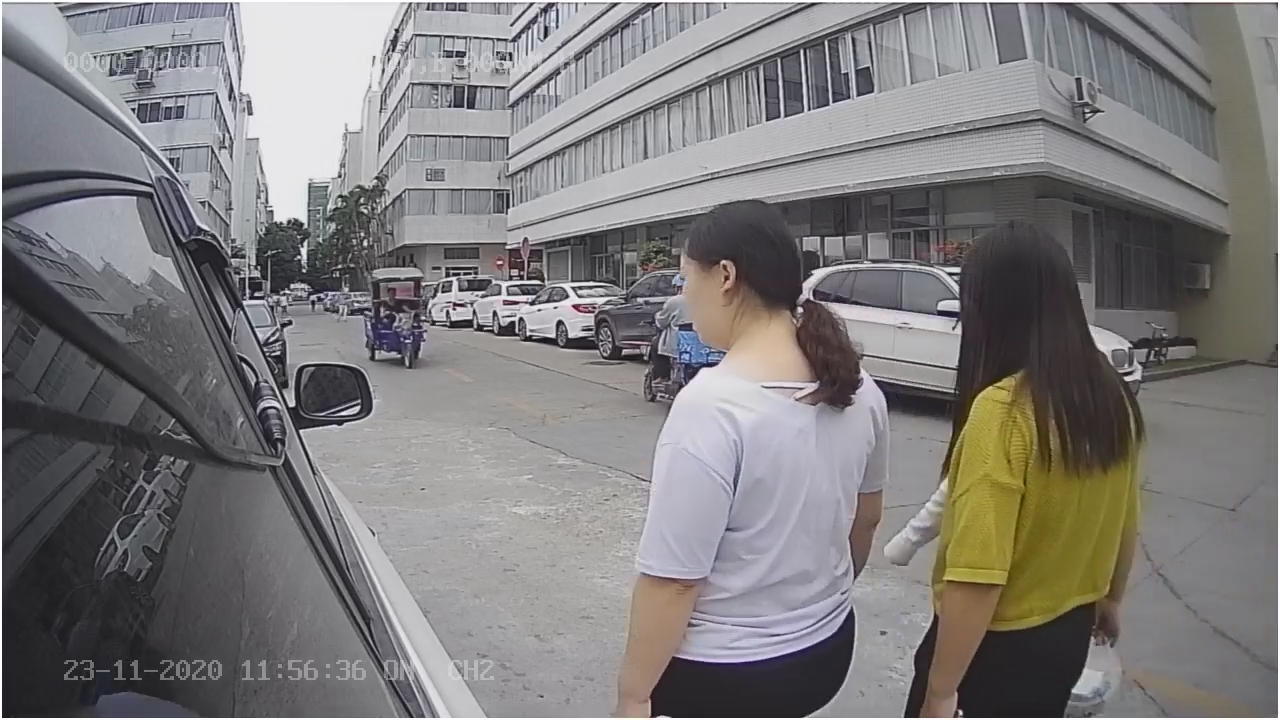person: (615, 189, 894, 720), (926, 223, 1160, 715)
